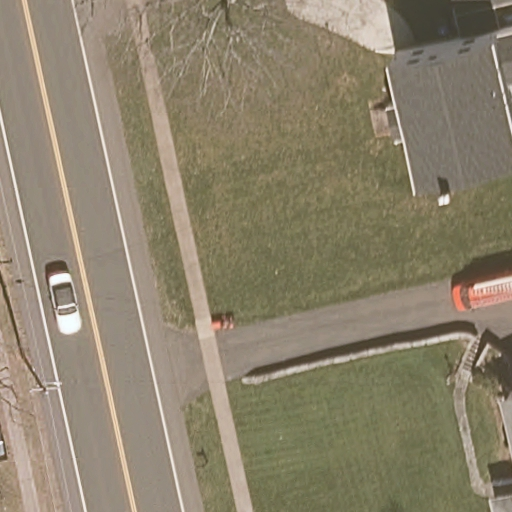DT: (28, 358, 63, 395)
